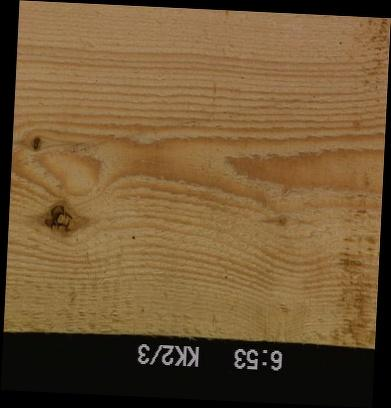dry_knot: (30, 135, 43, 152)
